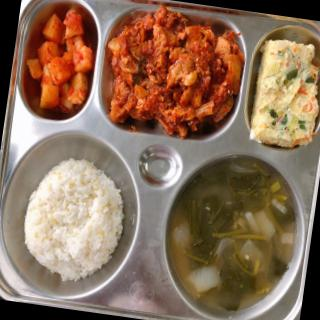Nasi: (18, 155, 132, 288)
